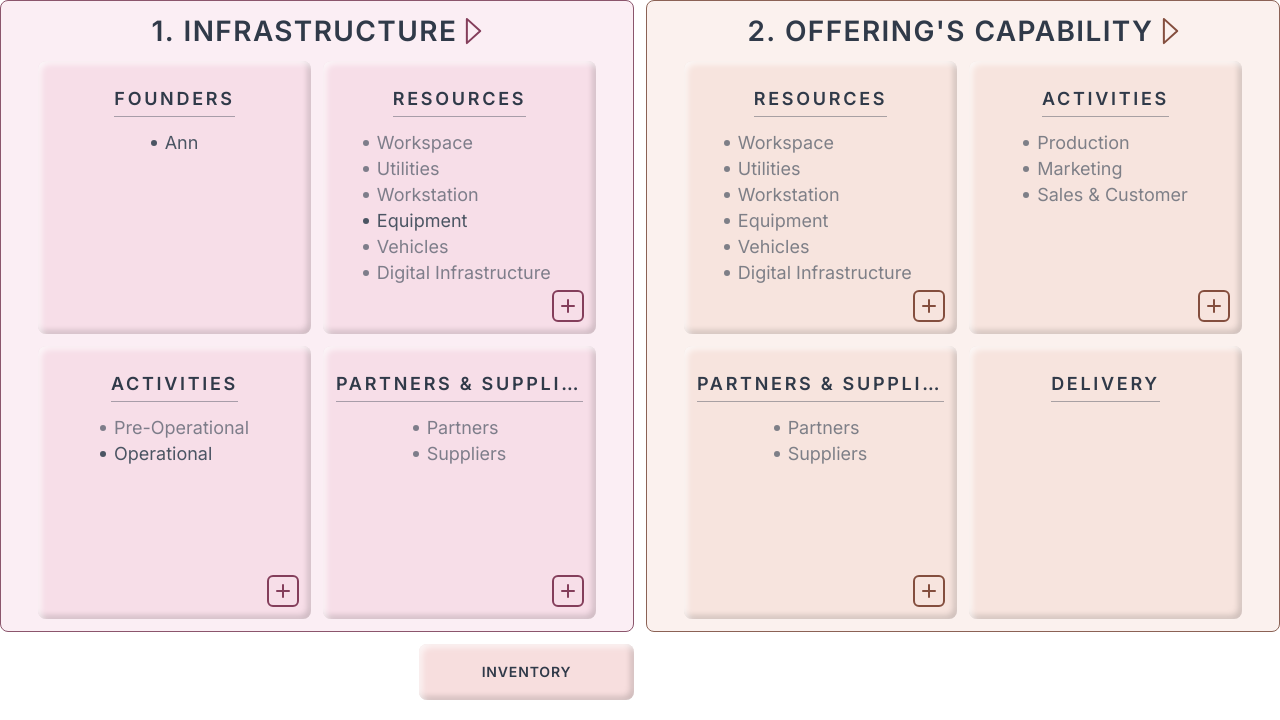
it: the Activity card › says a resource that begins after the activity ends
Step 1. Click the button "Activities" below "1." → (174, 387), box [38, 346, 311, 619]
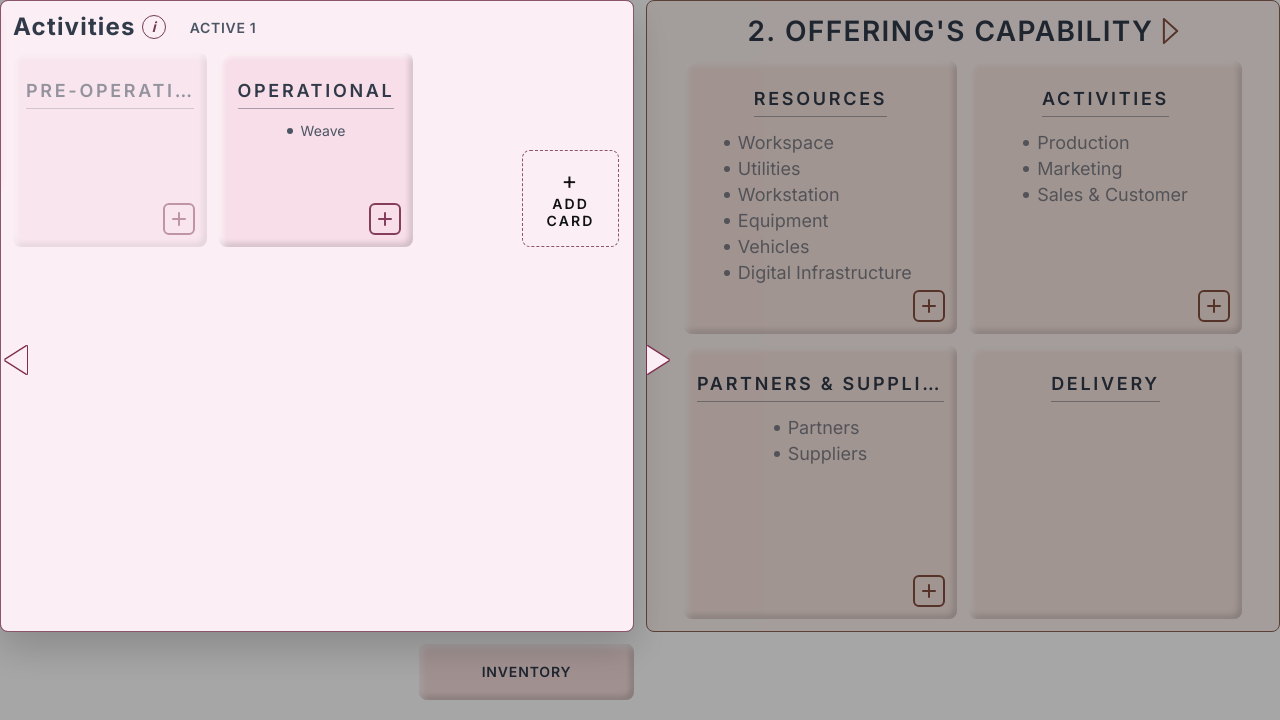
Step 2. Click the button with class "section-tile" showing "Operational" → (316, 150), box [219, 53, 413, 247]
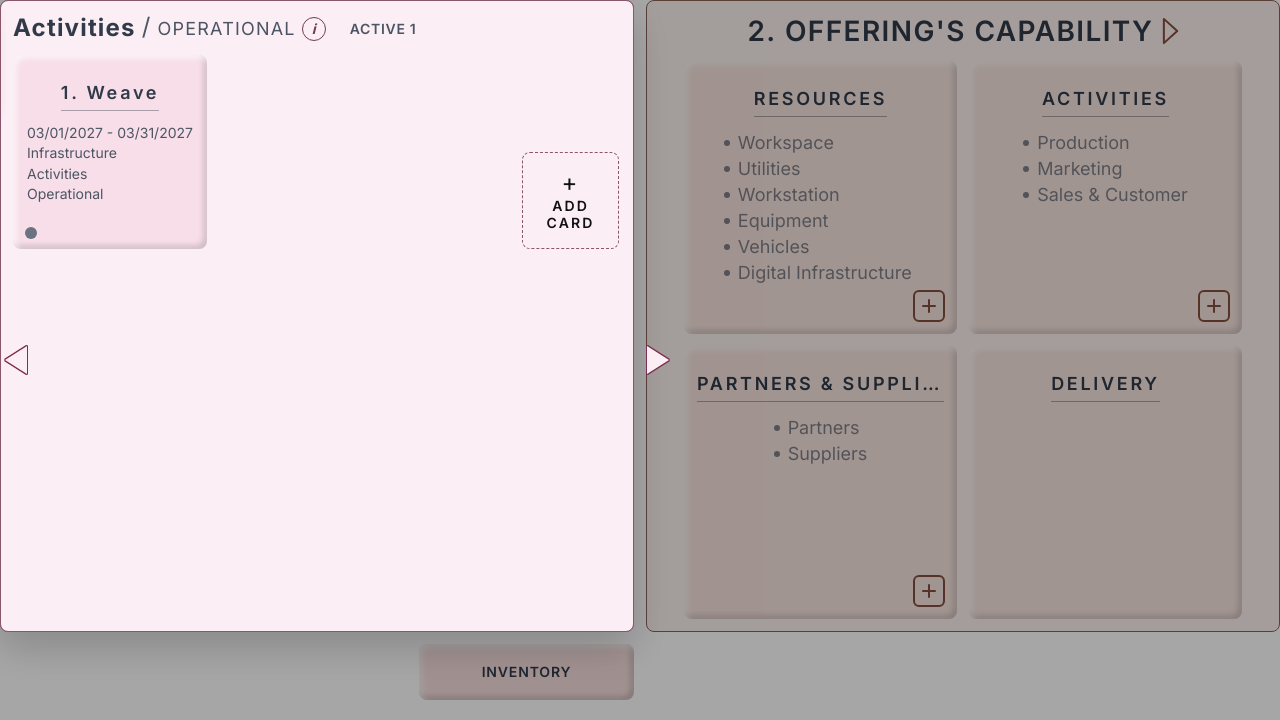
Step 3. Click the button with class "card-tile" → (110, 152), box [13, 55, 207, 249]
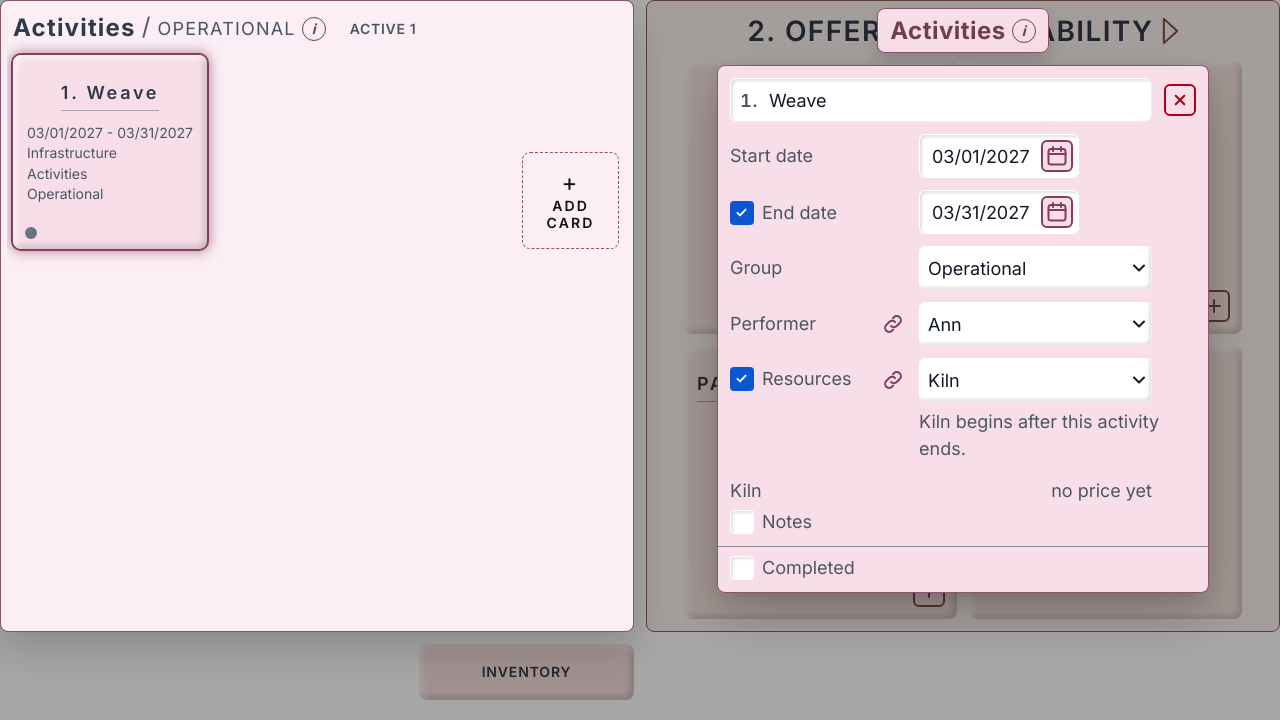
Now the text "Kiln begins after this activity ends." is shown, box [919, 408, 1196, 462]
